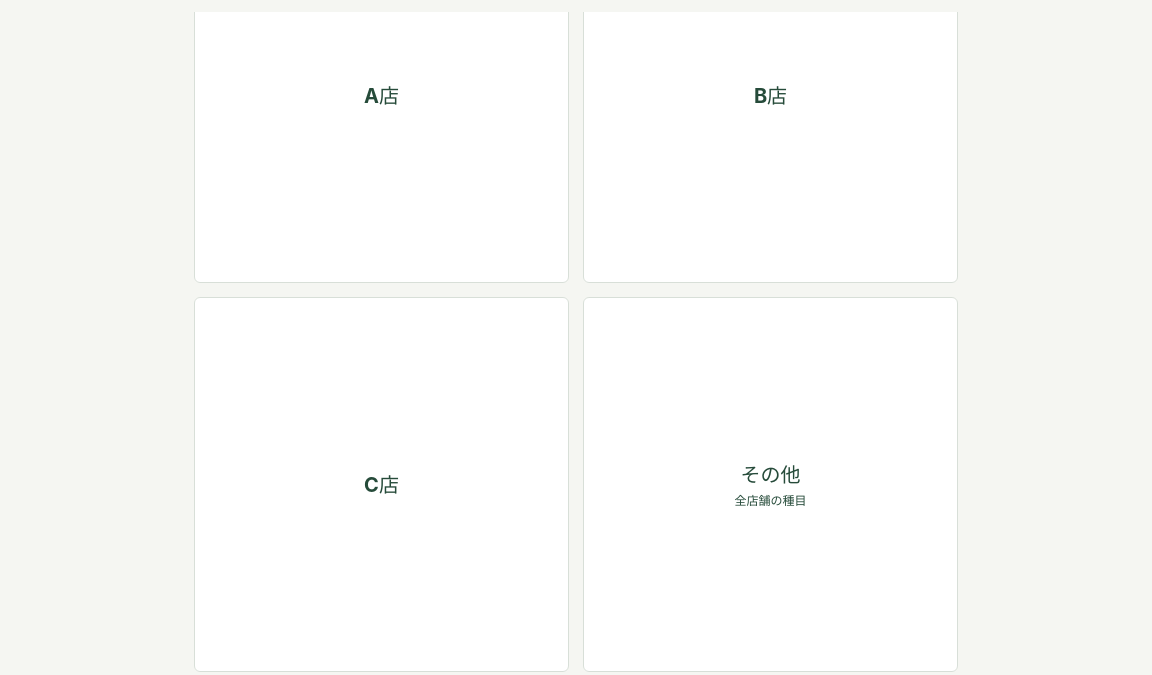
it: 店舗の選択と統合 › 器具にない既存重量も履歴から編集できる
The image size is (1152, 675).
Later steps or results of the test are not shown.
(page scrolled)
Click the button "C店".
click(382, 484)  # box [194, 297, 569, 672]
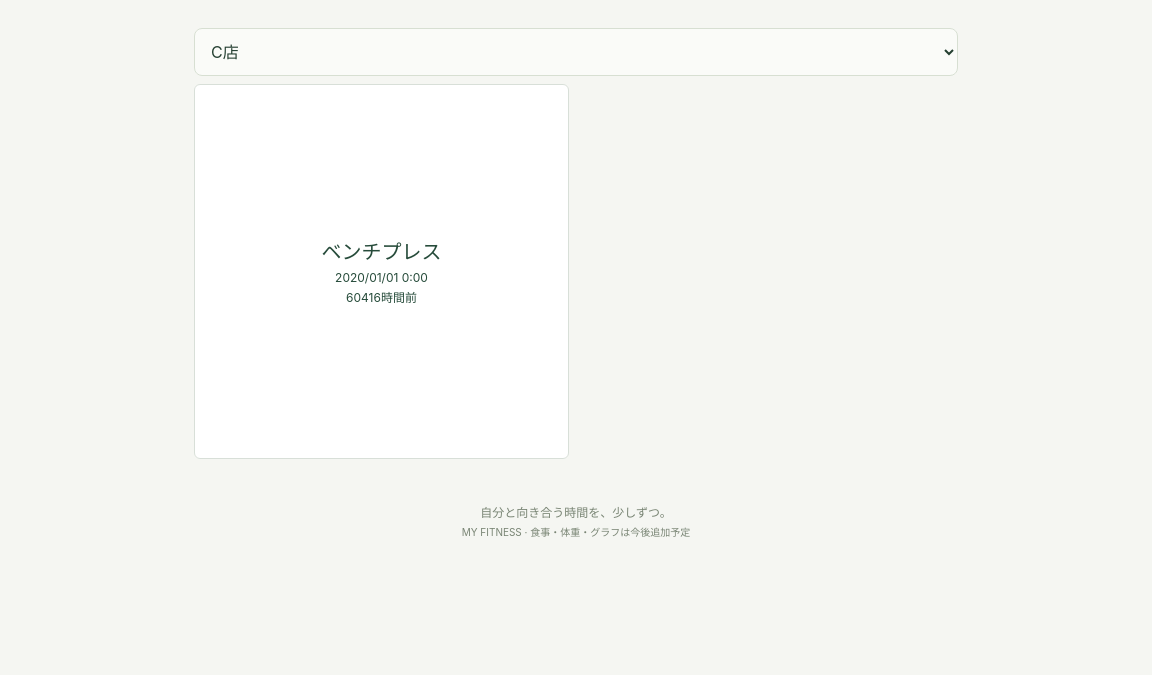
Select "設定" in the dropdown named "店舗を選択" at [576, 52], box [194, 28, 958, 76]
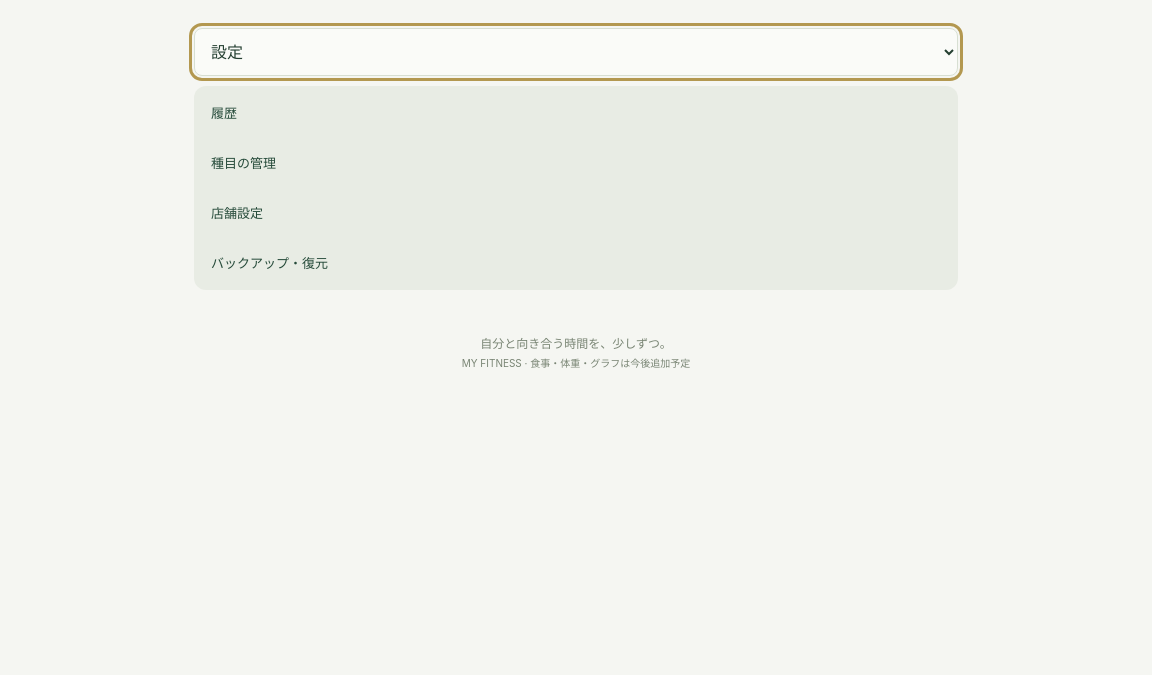
Click the button "履歴".
click(224, 113)  # box [199, 91, 953, 135]
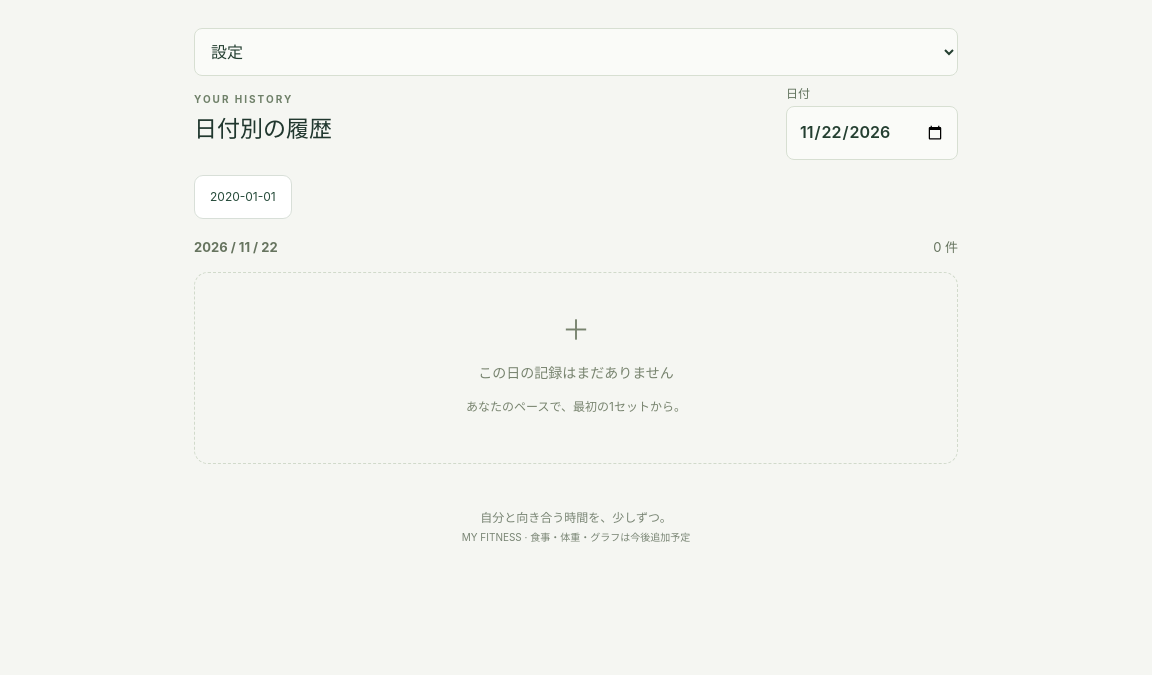
Click the button "2020-01-01".
click(243, 197)  # box [194, 175, 292, 219]
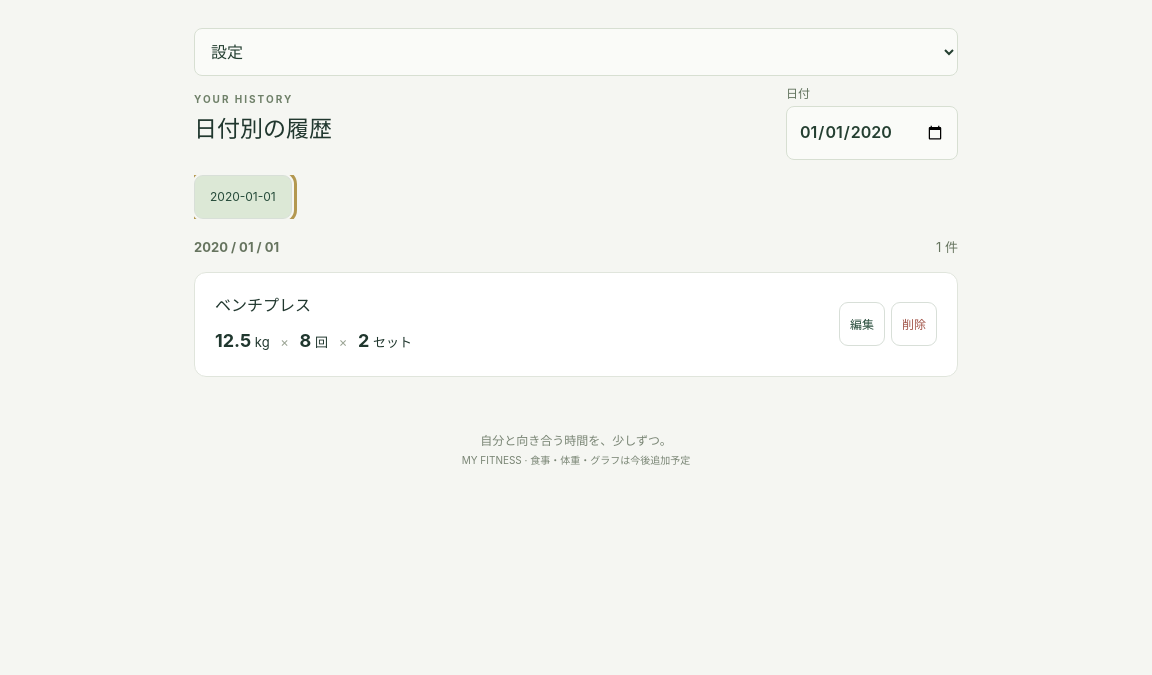
Click the button "編集".
click(862, 324)  # box [839, 302, 885, 346]
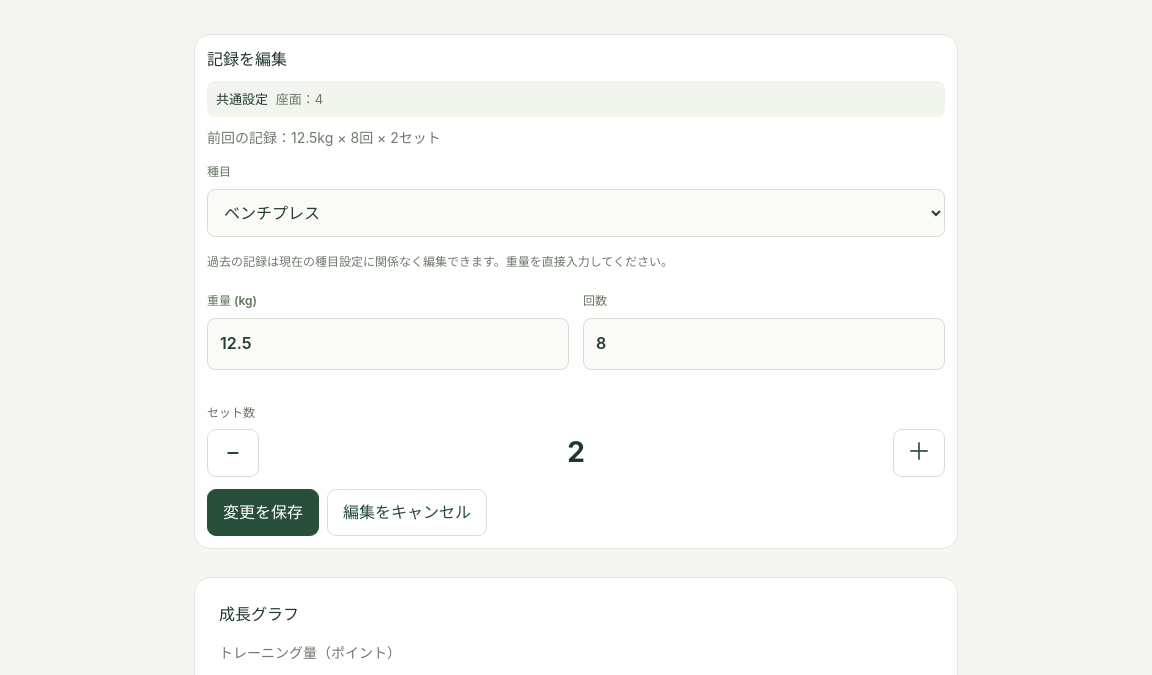
Now the number field labelled "重量 (kg)" holds "12.5", box [207, 318, 569, 370]
